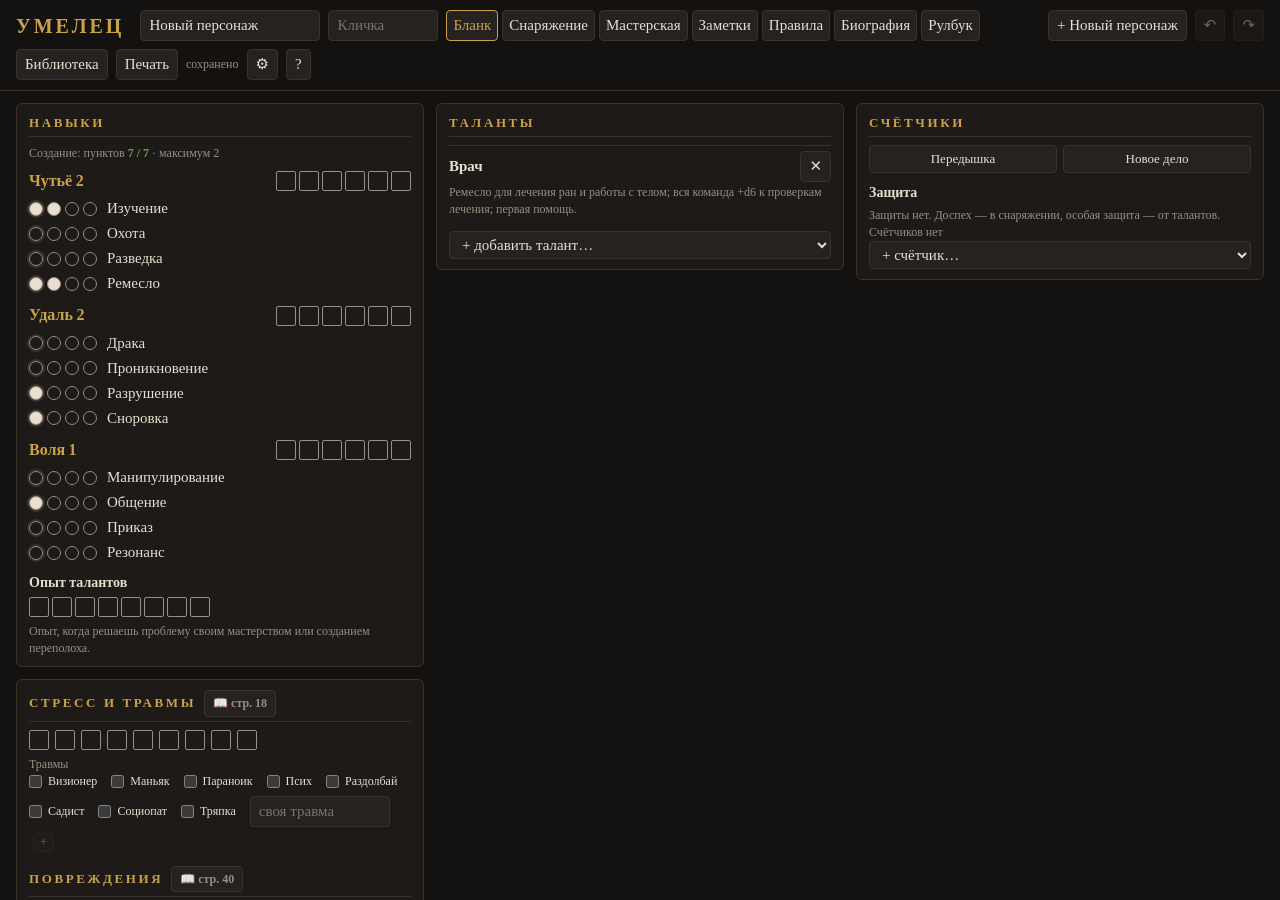
Test case: Снаряжение: нагрузка › load selector changes the limit
Click the button "Снаряжение".
click(549, 26)  # box [502,10,595,41]
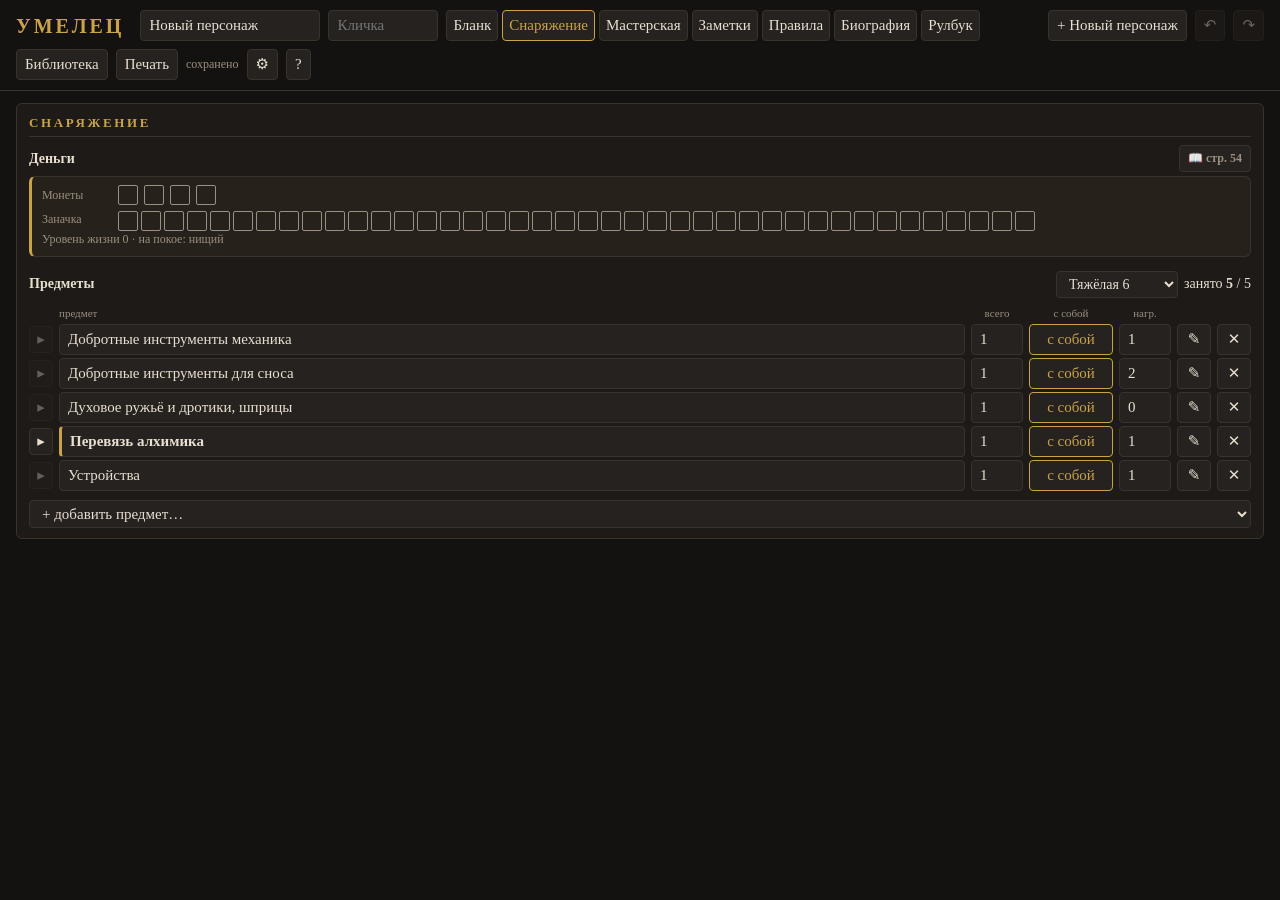
Select "Тяжёлая 6" in the dropdown named "Нагрузка" at (1117, 284), box [1056,271,1178,298]
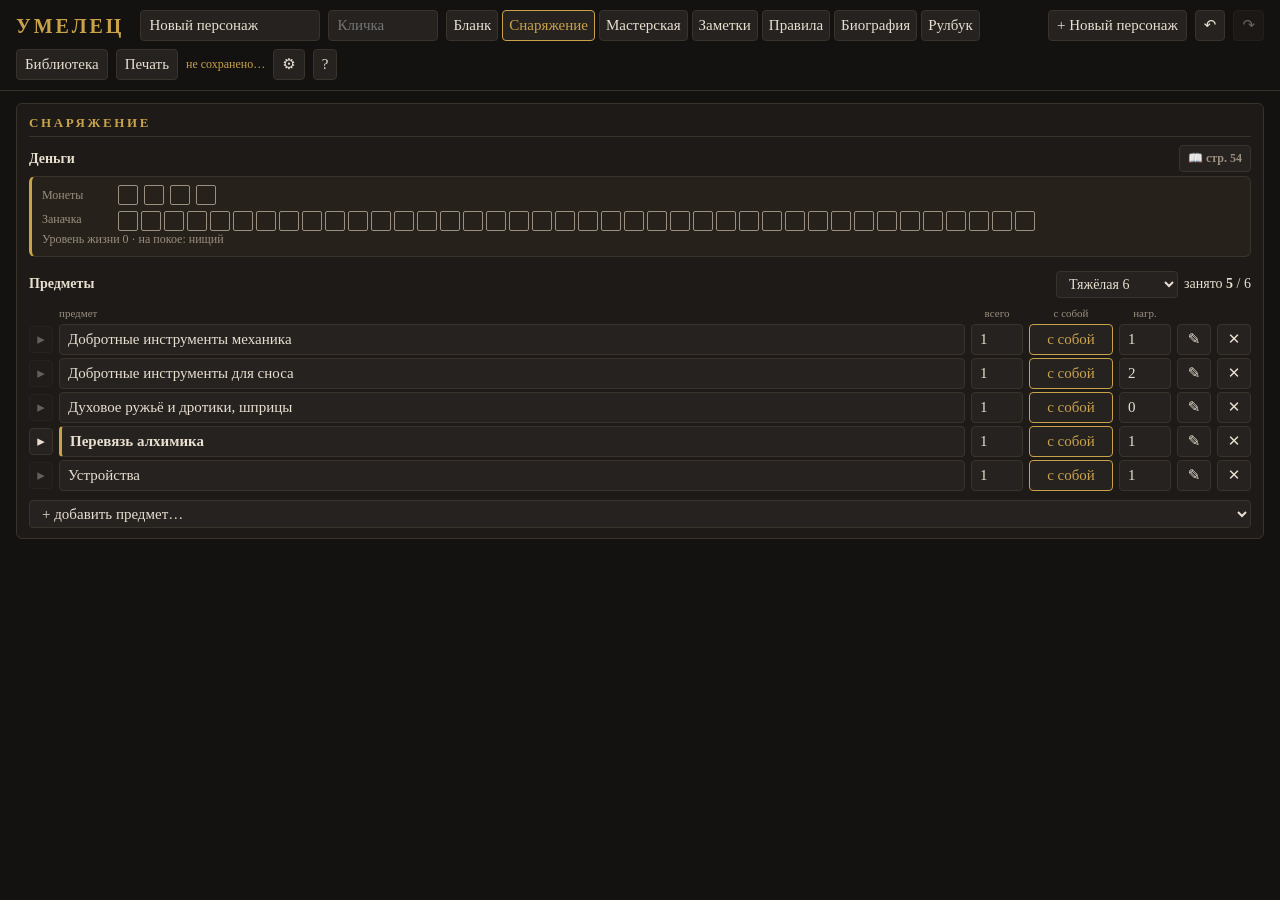
Now the element with test id "load-used" shows "/ 6", box [1184,274,1251,294]
